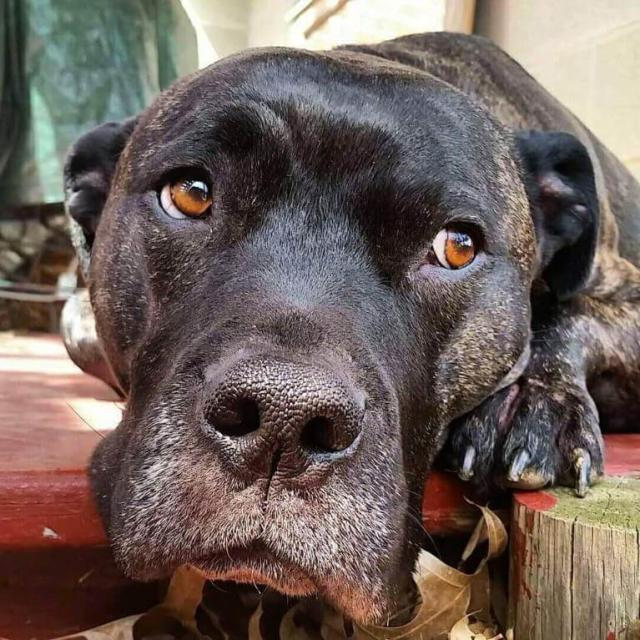fungal infection: (209, 356, 360, 492), (155, 456, 386, 543), (442, 297, 521, 387), (497, 144, 544, 272), (531, 321, 581, 403), (578, 298, 640, 362), (592, 240, 636, 296)
